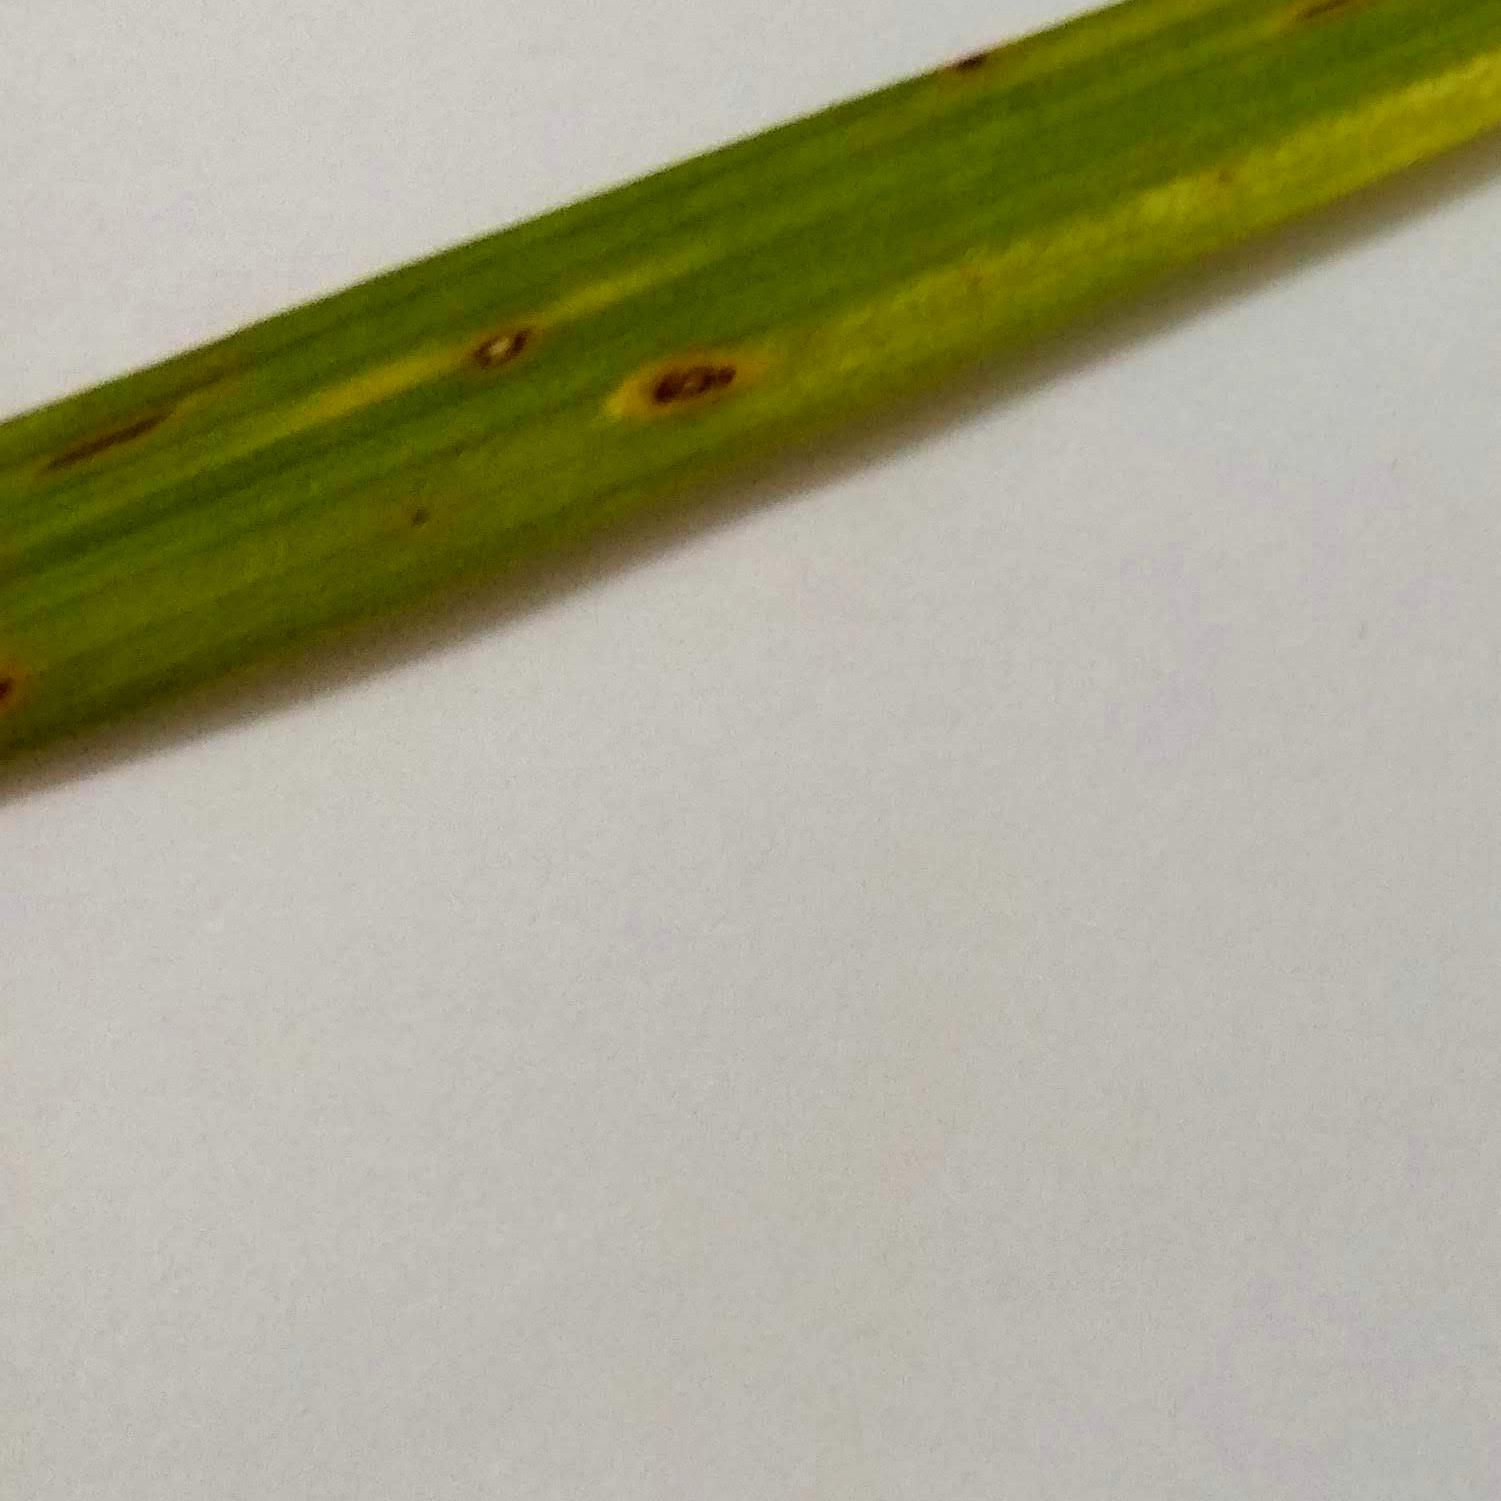1 RiceBlast: (590, 331, 777, 419), (432, 302, 547, 366)
